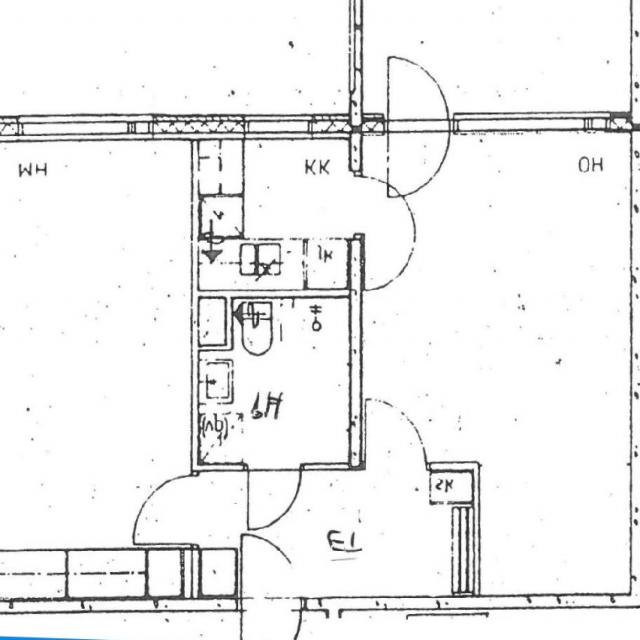door: (388, 45, 448, 133), (388, 112, 448, 199), (130, 475, 198, 544), (242, 532, 300, 610), (366, 396, 426, 470), (351, 174, 414, 234), (248, 464, 300, 526)
